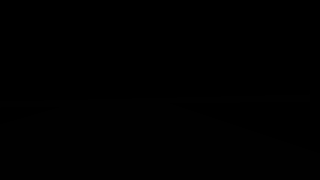turn_left: (172, 60, 187, 74)
